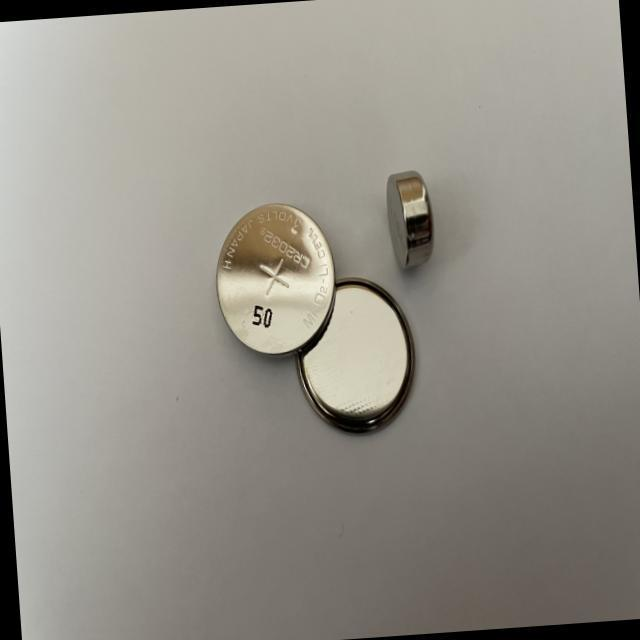COIN: (288, 270, 419, 444), (208, 197, 341, 363), (382, 163, 438, 274)
